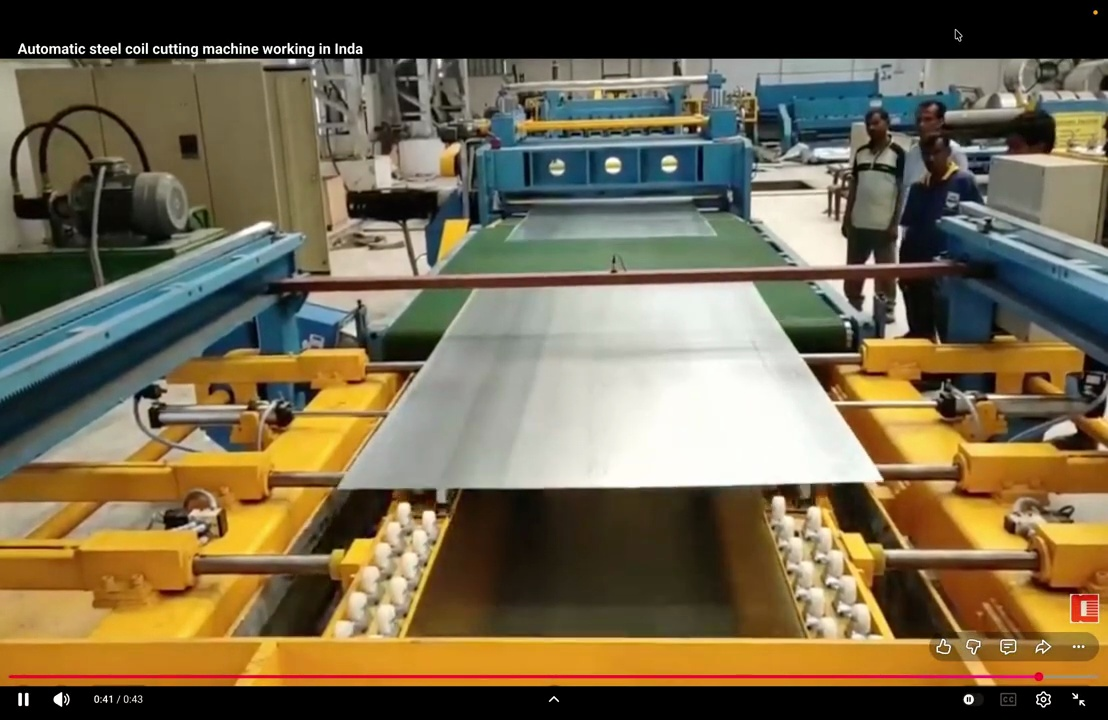steel plate: (340, 285, 880, 489), (508, 202, 714, 241)
